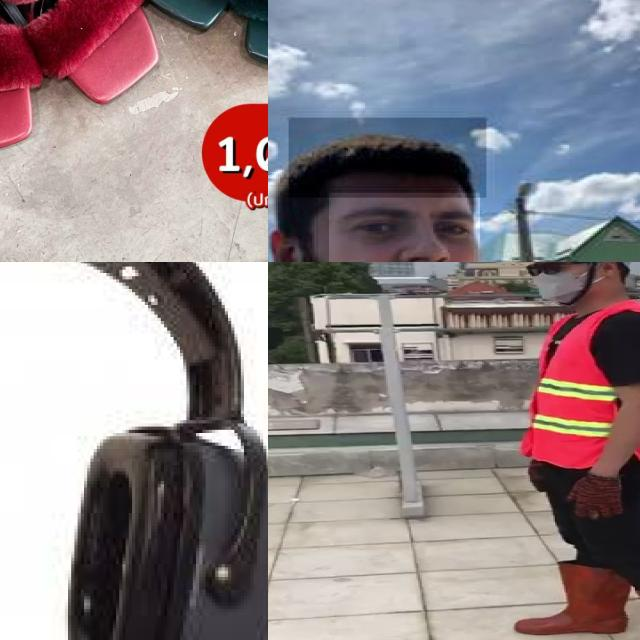Ear-protection: (157, 420, 268, 640)
No_Ear-Protection: (268, 223, 315, 262)
No_Glasses: (323, 195, 490, 254)
Sandals: (0, 0, 179, 165)
boots: (516, 562, 633, 636)
face_nomask: (329, 193, 480, 262)
glasses: (517, 262, 570, 278)
hand_glove: (567, 474, 628, 519)
head_nohelmet: (289, 118, 486, 198)
person: (268, 109, 640, 262)
vest: (523, 305, 640, 469)
